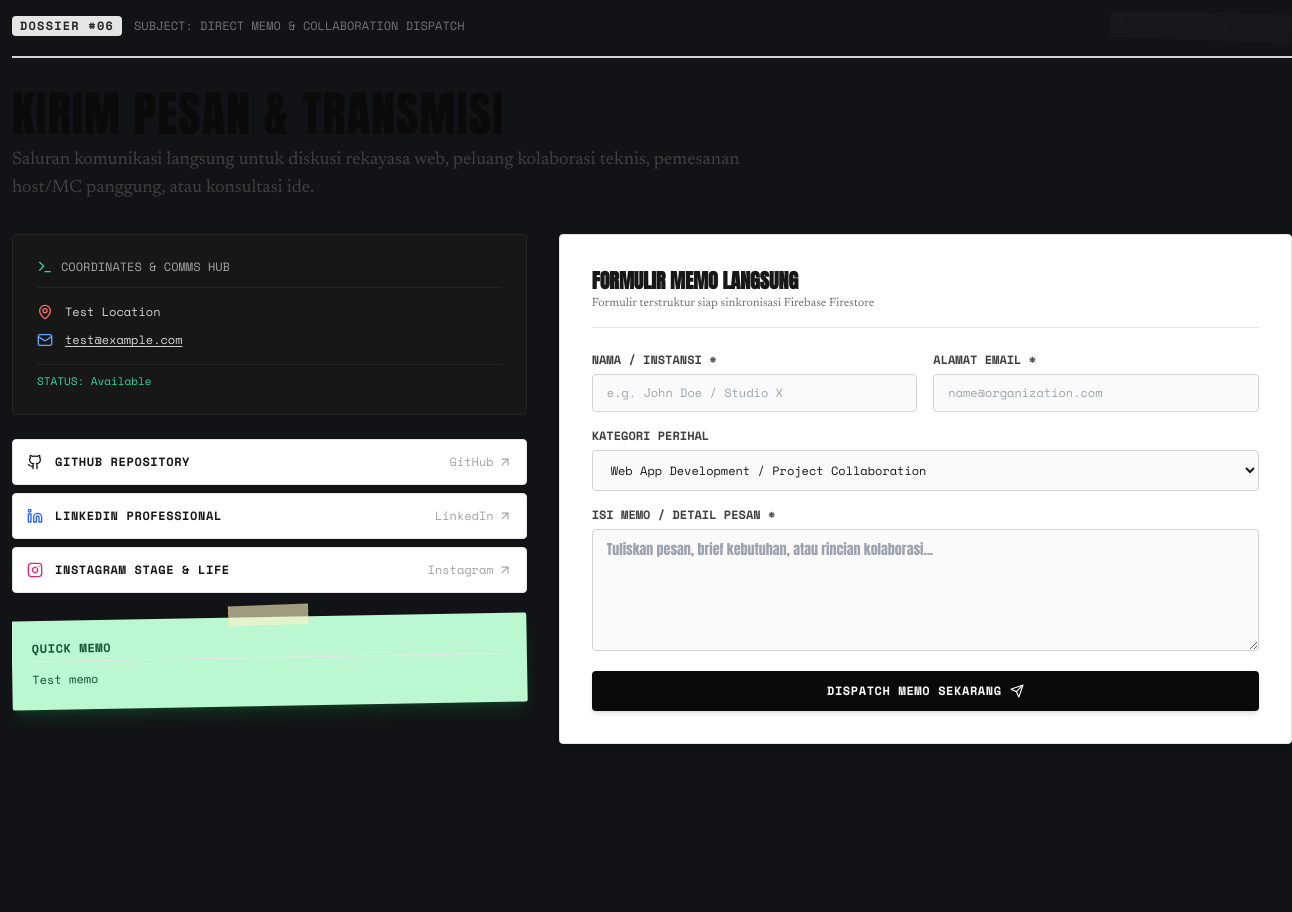
Test: ContactSection › displays network error message when fetch fails
The image size is (1292, 912).
Note: Fill out the form
Type "Test User" into the field labelled "Nama / Instansi *" at (755, 393), box [592,374,917,412]
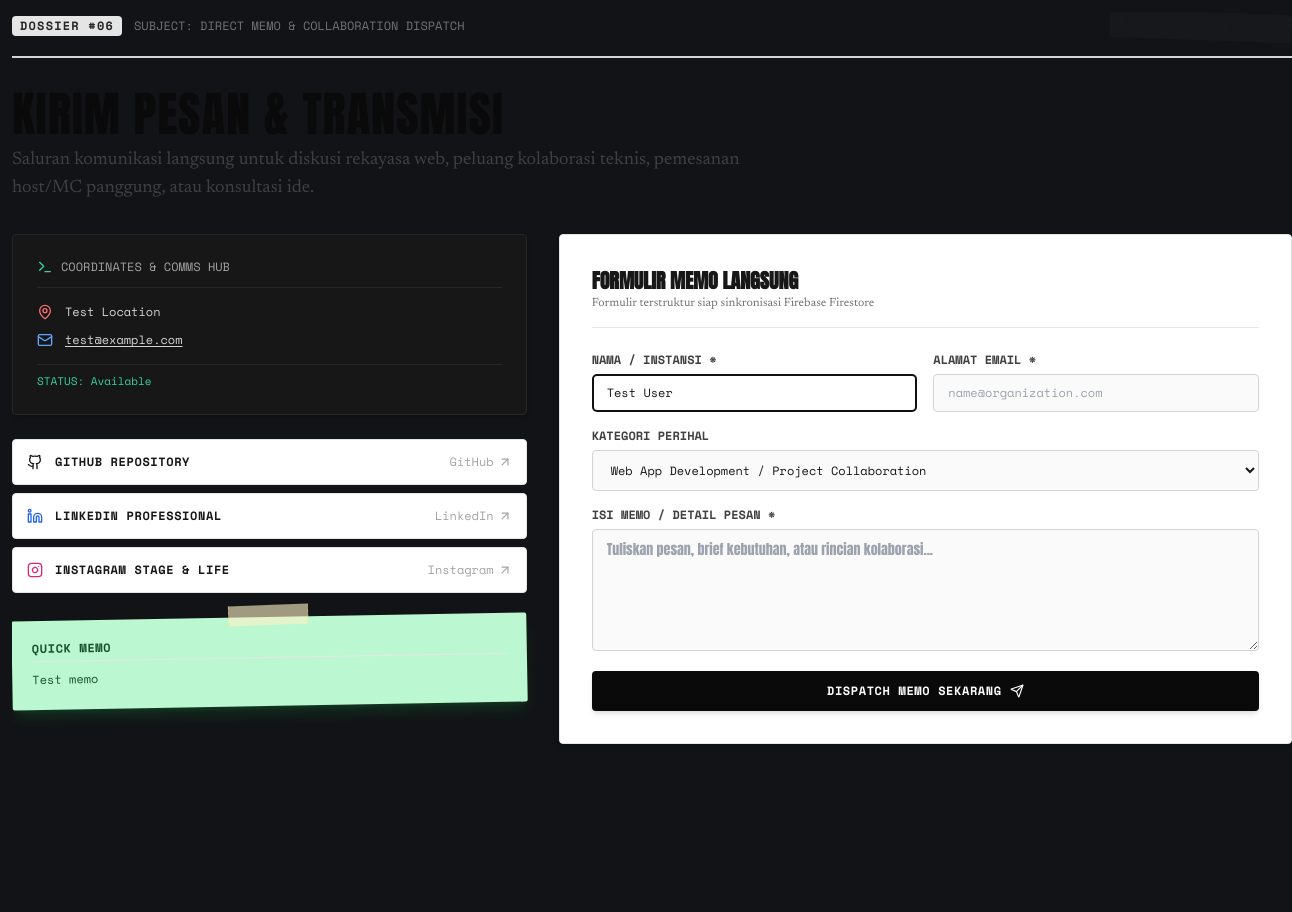
Type "user@test.com" into the field labelled "Alamat Email *" at (1096, 393), box [933,374,1259,412]
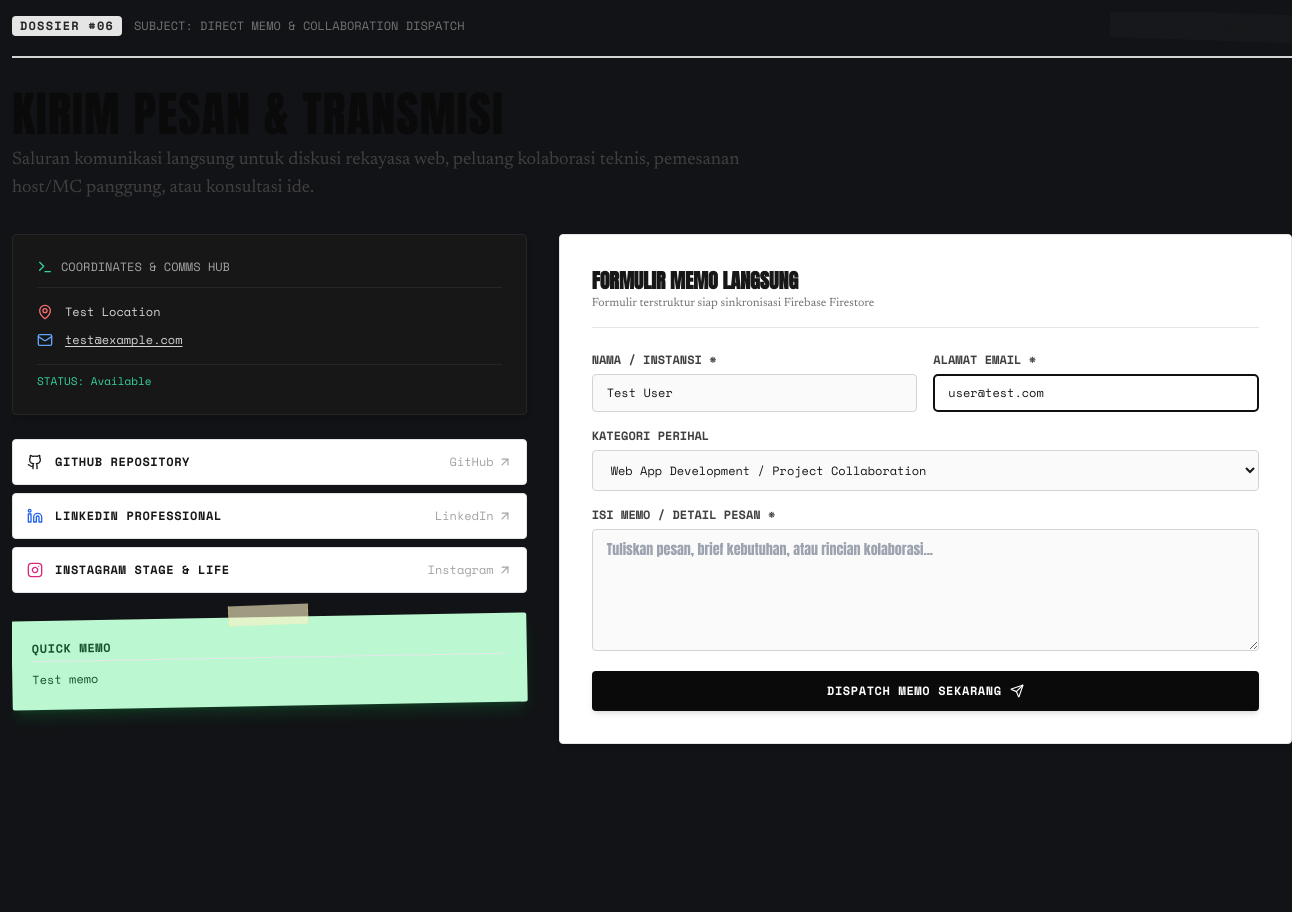
Type "This is a test message" into the text box labelled "Isi Memo / Detail Pesan *" at (925, 590), box [592,529,1259,651]
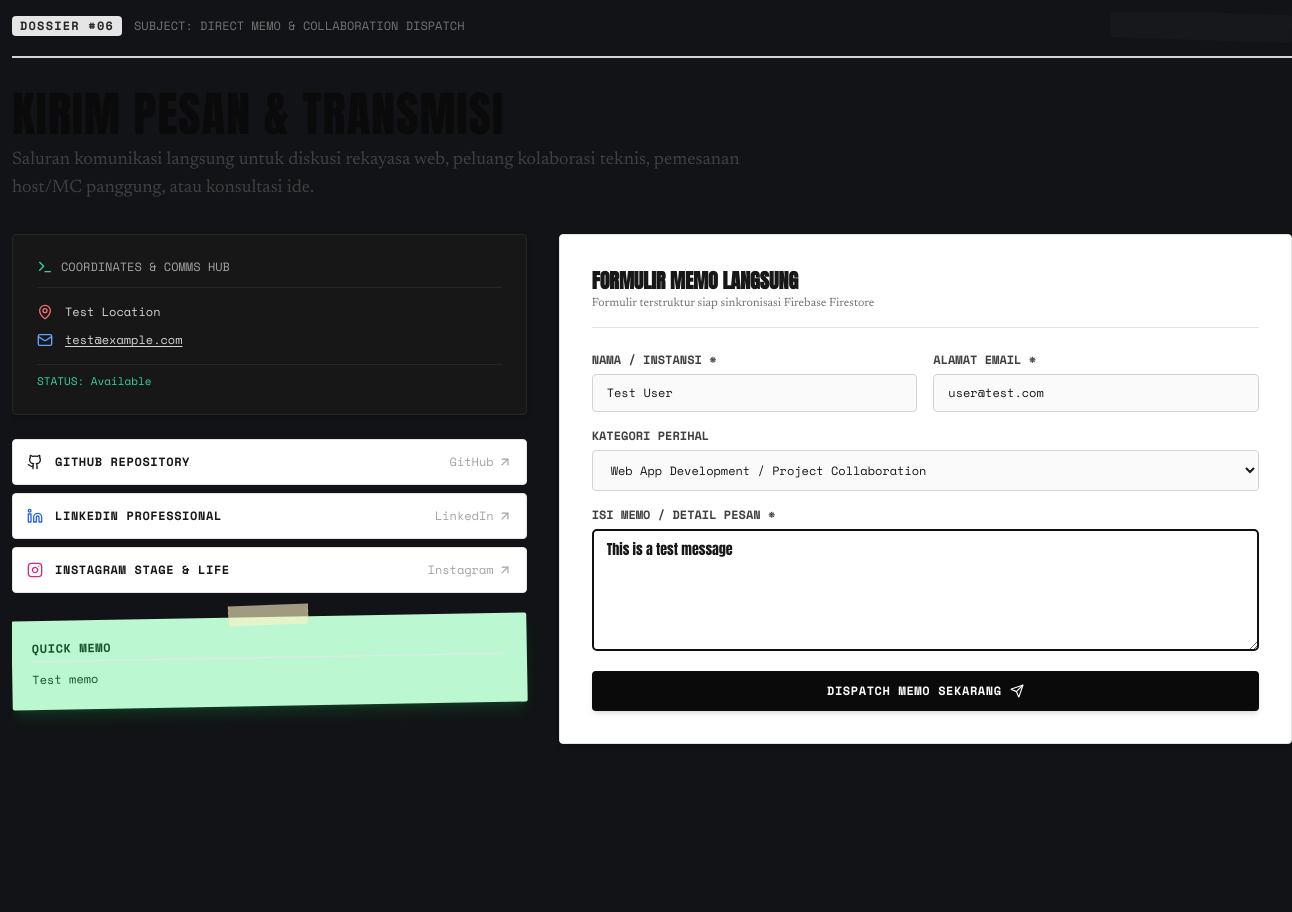
Note: Submit form
Click the button "DISPATCH MEMO SEKARANG" at (925, 691), box [592,671,1259,711]
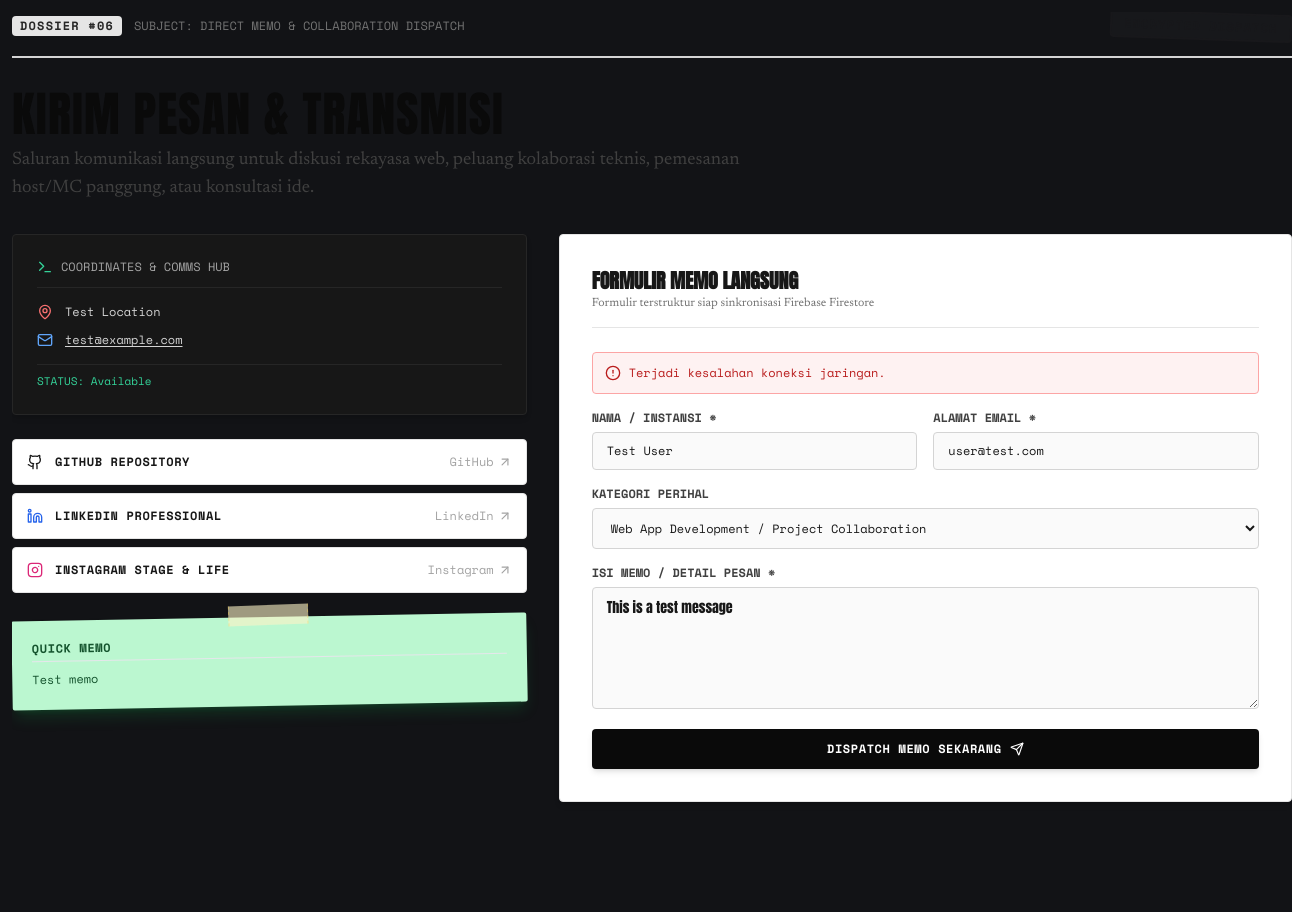
Result: the text "Terjadi kesalahan koneksi jaringan." is shown at [629,365,886,381]
